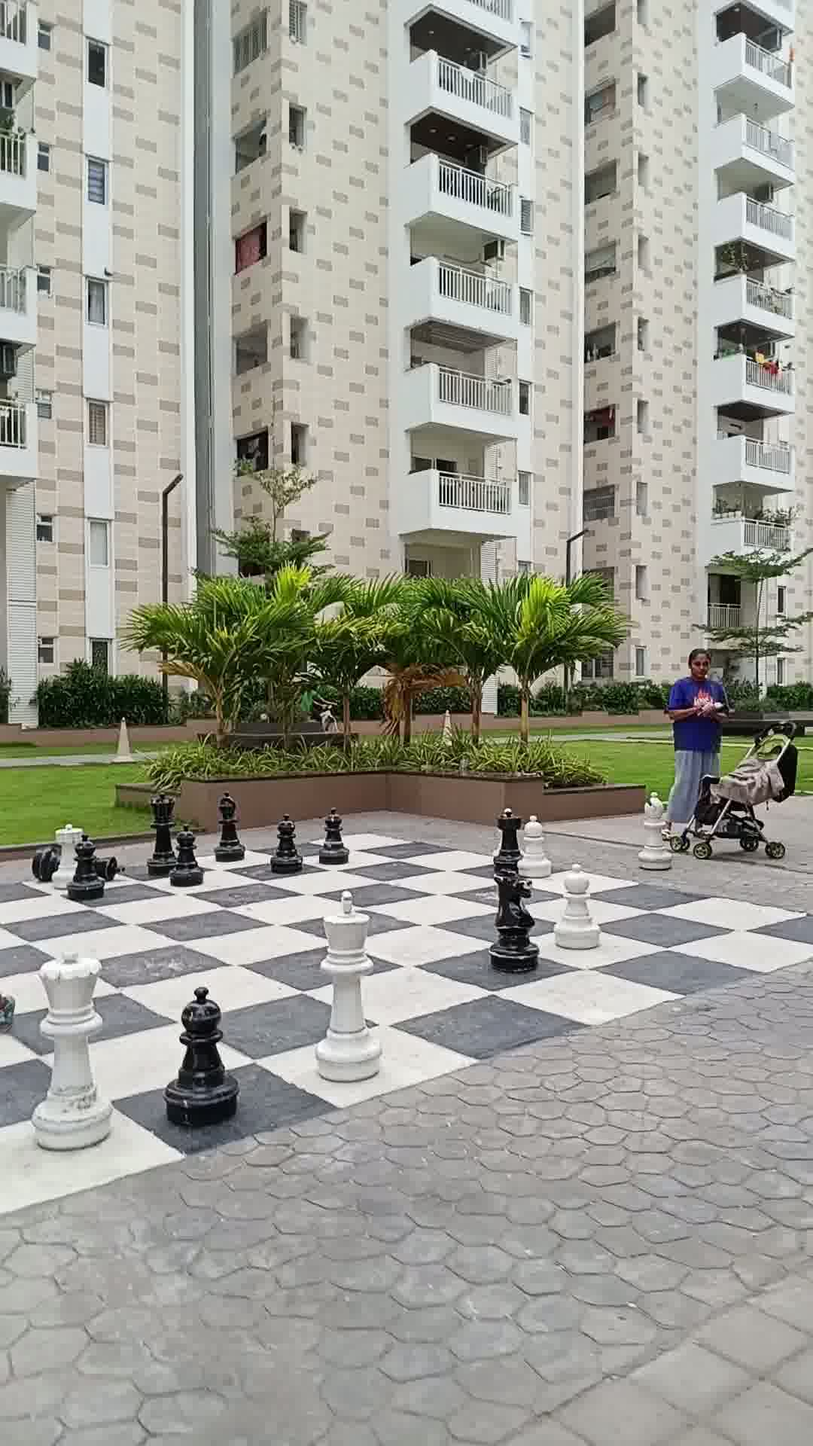person: (665, 614, 732, 846)
tree: (118, 565, 267, 763), (485, 557, 622, 740), (328, 557, 447, 765), (408, 555, 516, 748), (708, 514, 812, 710), (226, 433, 324, 632), (243, 559, 328, 761)
